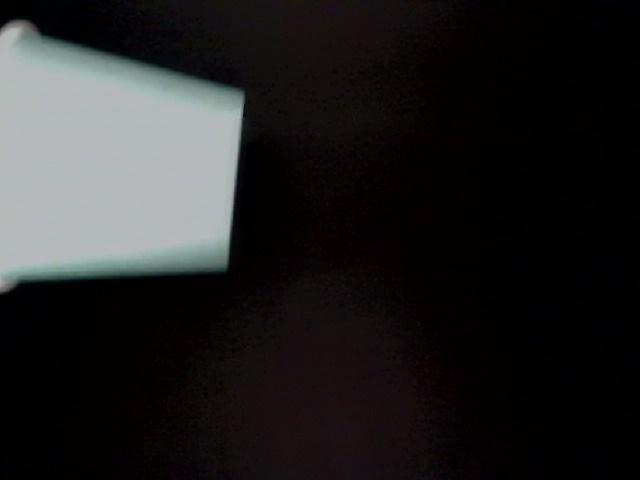CYLJ: (552, 32, 640, 134)
